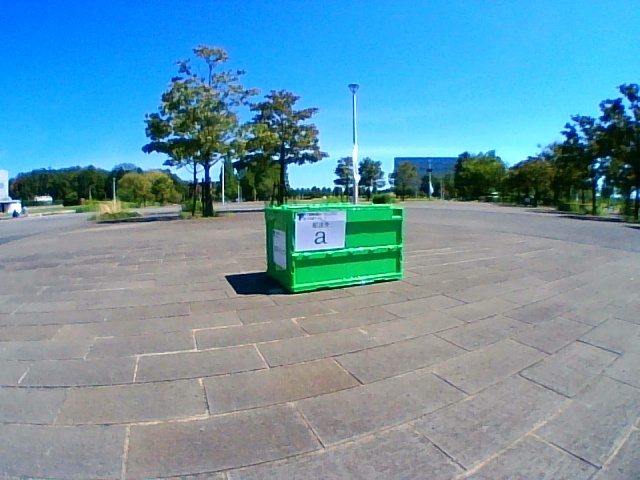green_box: (266, 204, 404, 292)
tag_a: (296, 213, 343, 248)
